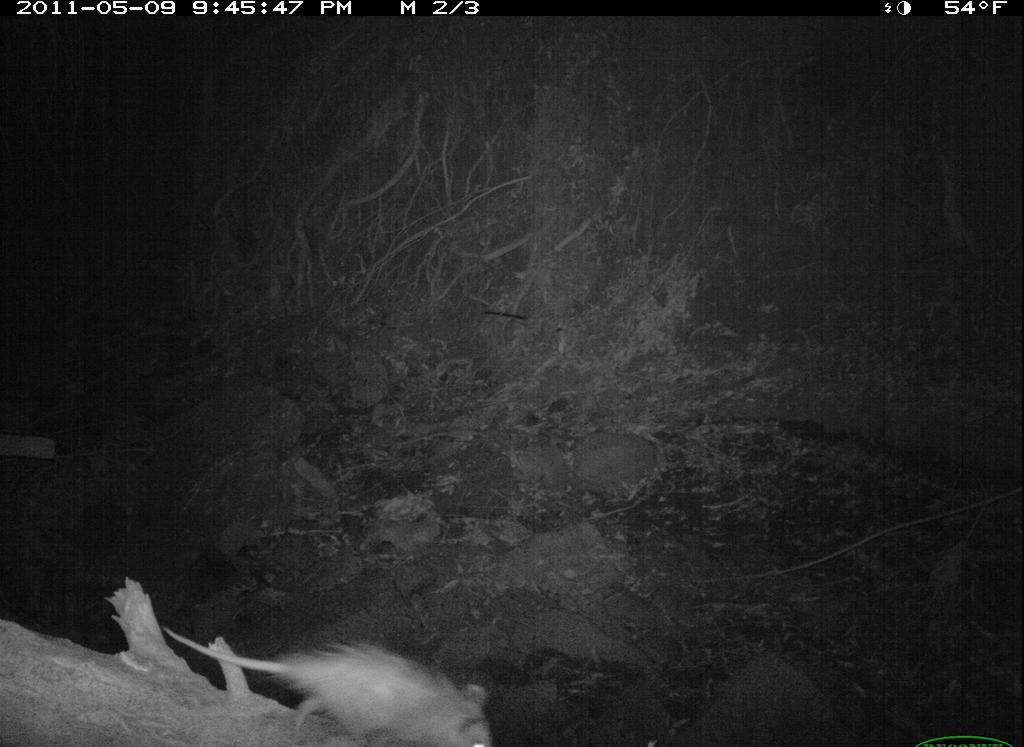opossum: (163, 619, 506, 747)
